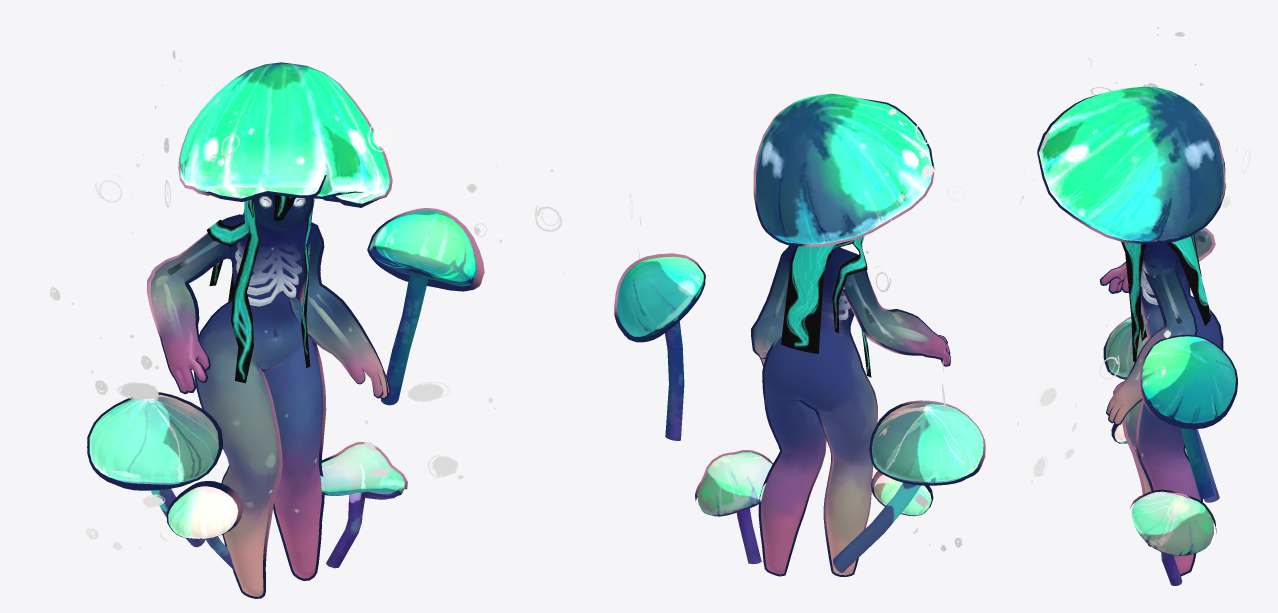
The model's file is mushroom-transformed.glb.
3 renders of one model, left to right at view 1: azimuth 30°, elevation 25°; view 2: azimuth 150°, elevation 25°; view 3: azimuth 270°, elevation 25°, orthographic. The views are drawn at different scales.
Visible parts, largest first — view 1: Object_5, Object_2, Object_6, Object_4, Object_7, Object_3; view 2: Object_5, Object_2, Object_6, Object_4, Object_7, Object_3; view 3: Object_5, Object_2, Object_6, Object_4, Object_7, Object_3.
Boxes of the visible parts, x1,y1,x2,y2 form: Object_5: (89,62,476,571); Object_2: (150,194,389,596); Object_6: (87,69,484,598); Object_4: (206,195,313,383); Object_7: (49,50,564,549); Object_3: (163,241,349,344); Object_5: (617,93,983,572); Object_2: (753,245,949,575); Object_6: (614,97,985,576); Object_4: (781,236,871,377); Object_7: (629,100,971,551); Object_3: (766,276,928,349); Object_5: (1039,86,1235,585); Object_2: (1101,228,1221,574); Object_6: (1037,94,1237,576); Object_4: (1121,234,1211,362); Object_7: (1015,27,1250,483); Object_3: (1140,234,1205,334).
Size of the model in its own units: 5.43 by 6.37 by 2.84.
Materials: 6 (6 with a texture image).
